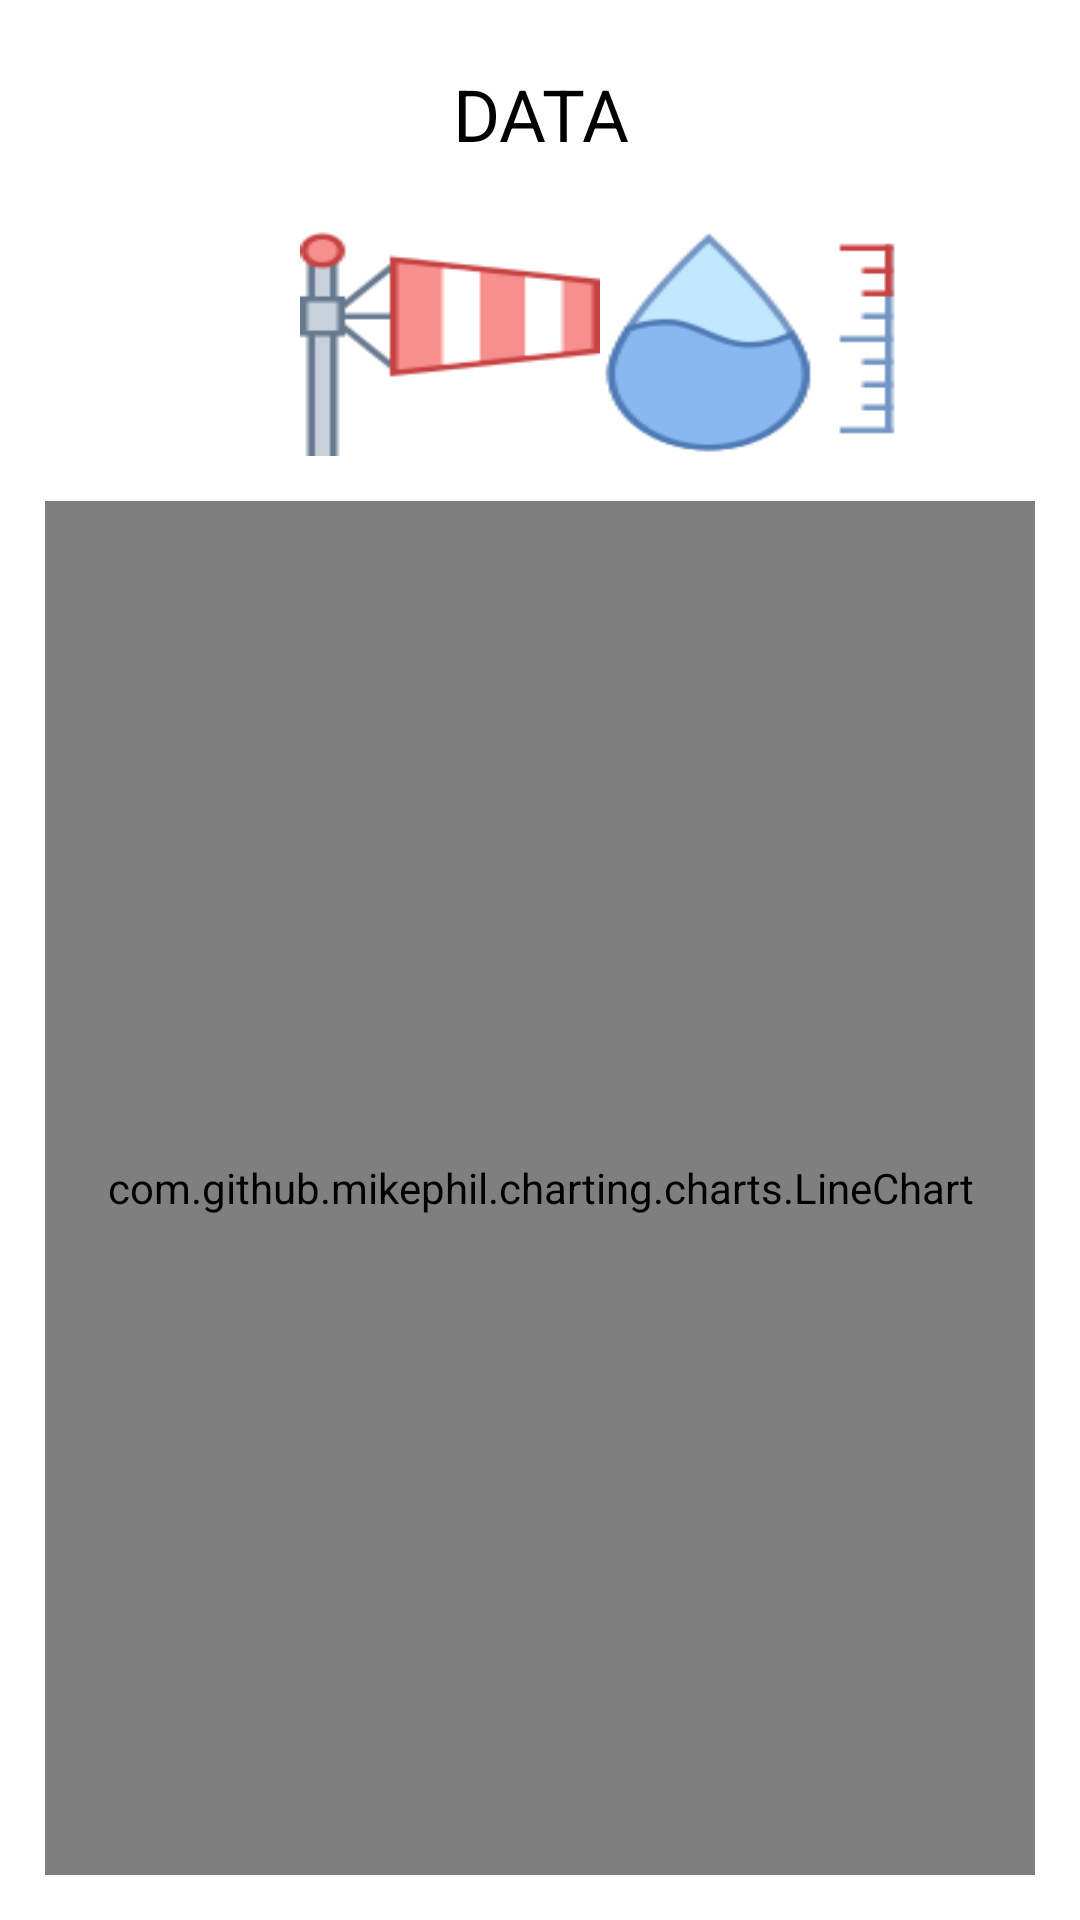

Screen size 1080x1920. Icon name, then its box in pixels as (x1, y1, x2, y2):
hygrometer: (605, 234, 895, 452)
windsock: (300, 232, 600, 456)
